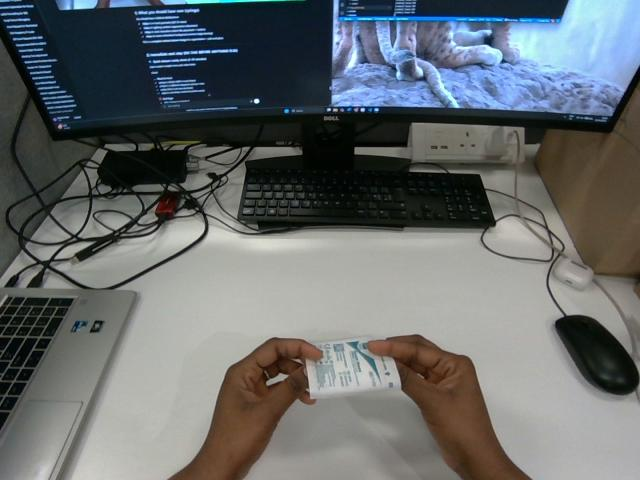gauze: (306, 337, 400, 398)
